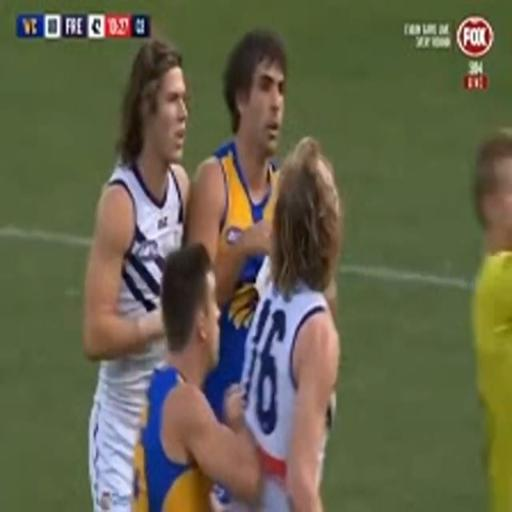nao-violencia: (74, 21, 322, 403), (120, 130, 350, 512)
